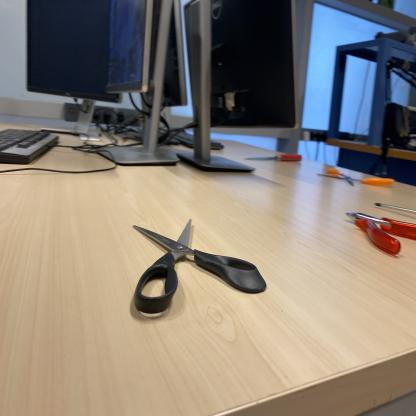scissors: (130, 219, 269, 322), (317, 164, 397, 191)
